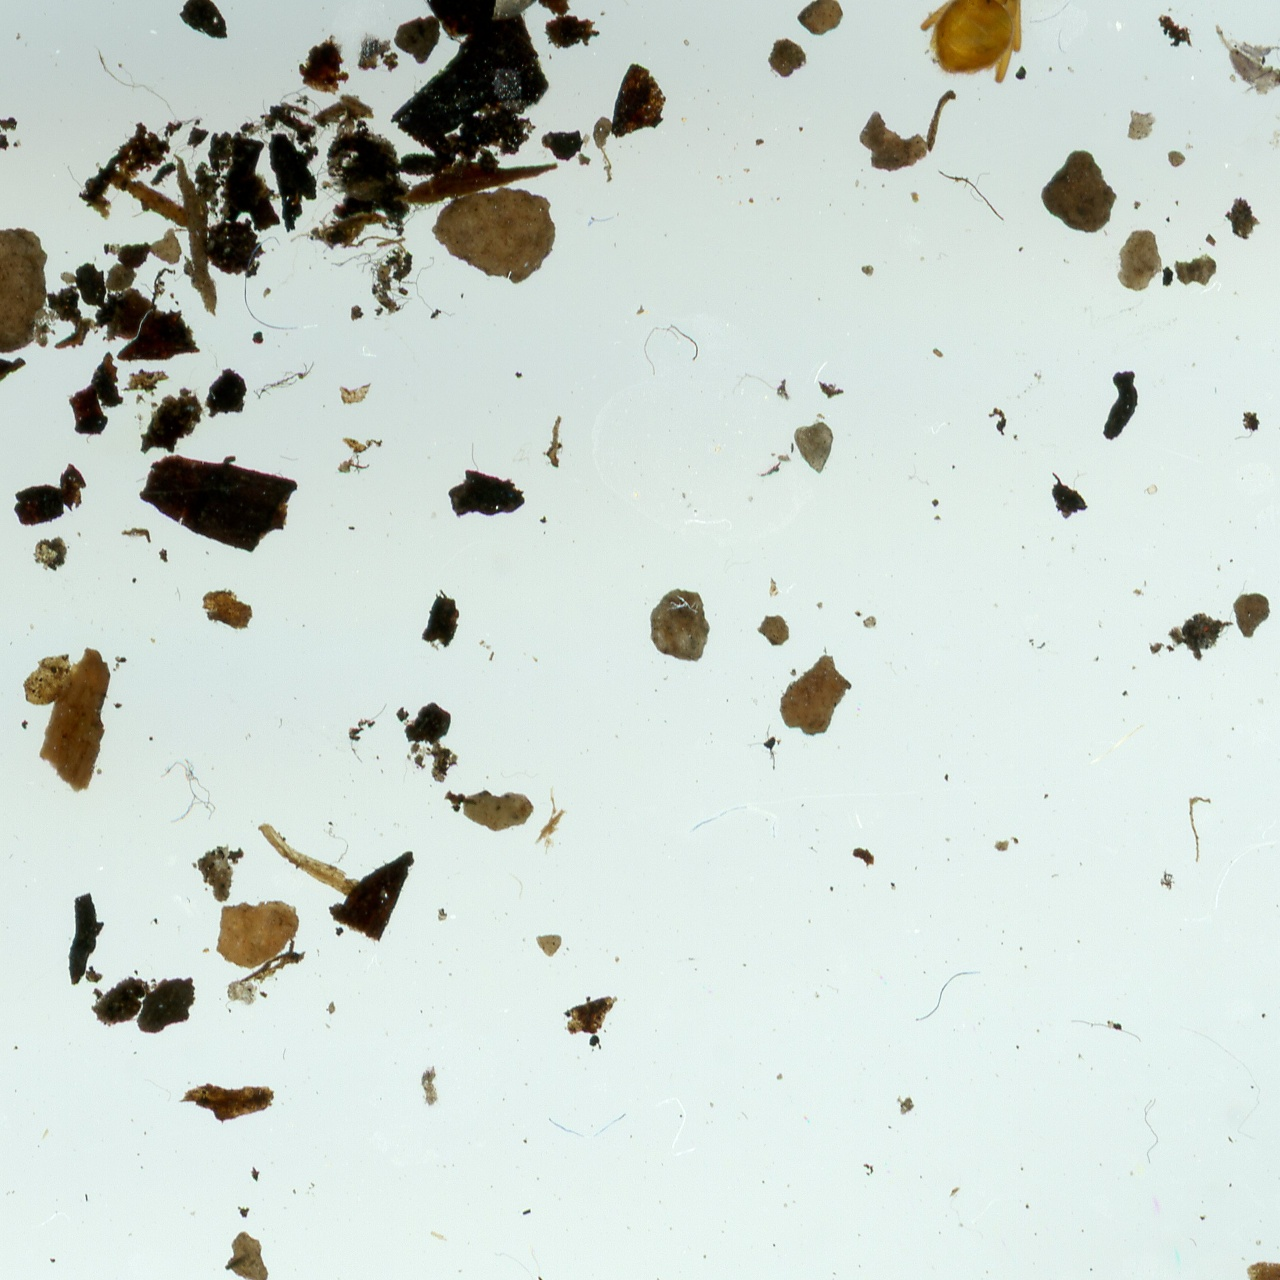arthropod: (887, 0, 1183, 129), (1214, 23, 1280, 97), (1228, 37, 1280, 62)
